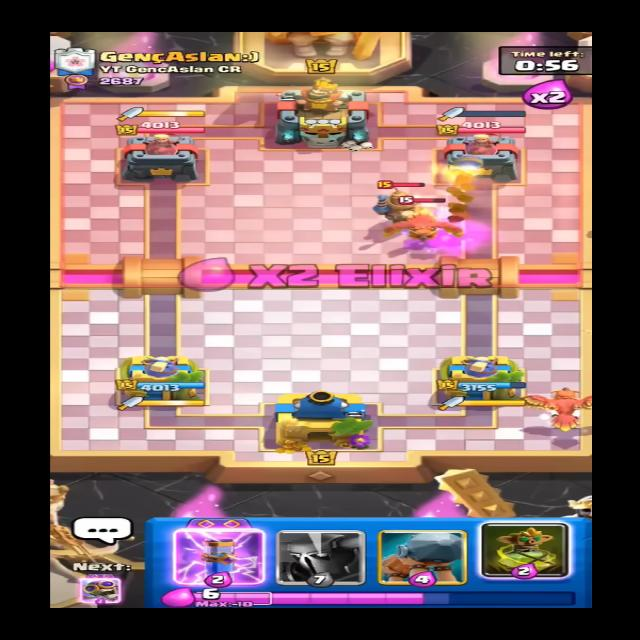phoenix: (368, 199, 490, 248)
prince: (362, 179, 434, 234)
